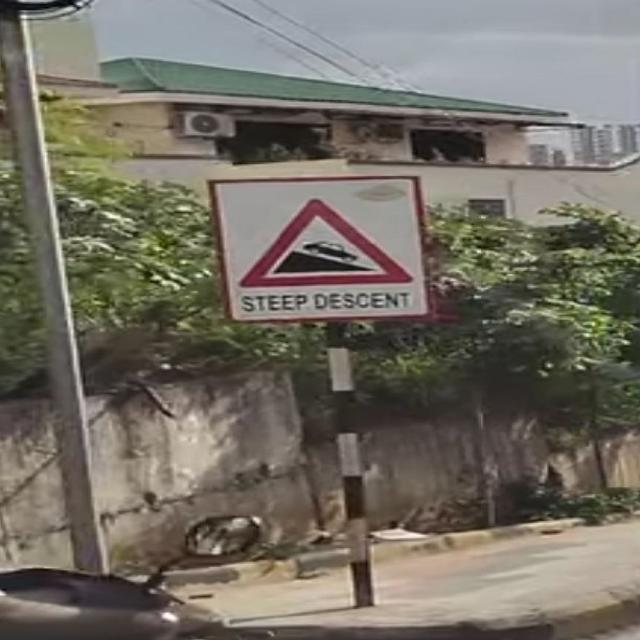steep_descent: (205, 169, 430, 323)
